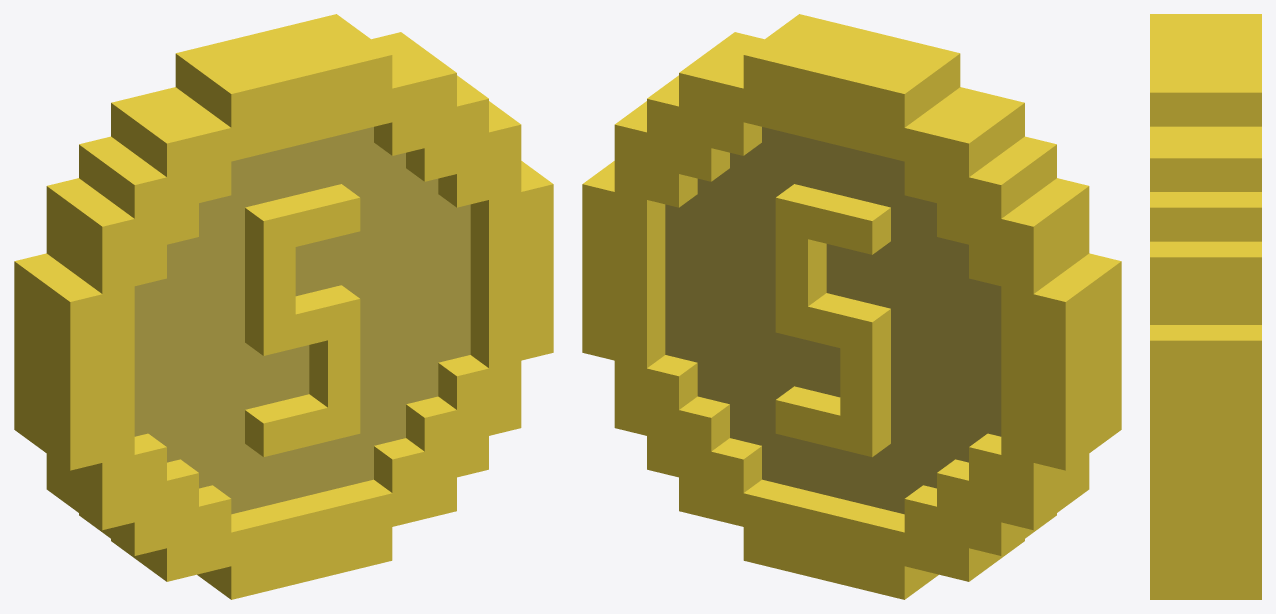
The model's file is monet5.obj.
3 views of the same model, side by side, from view 1: azimuth 30°, elevation 25°; view 2: azimuth 150°, elevation 25°; view 3: azimuth 270°, elevation 25° (orthographic).
Bounding box in the file's own units: 1.5 × 1.5 × 0.3.
1 material, 1 textured.
